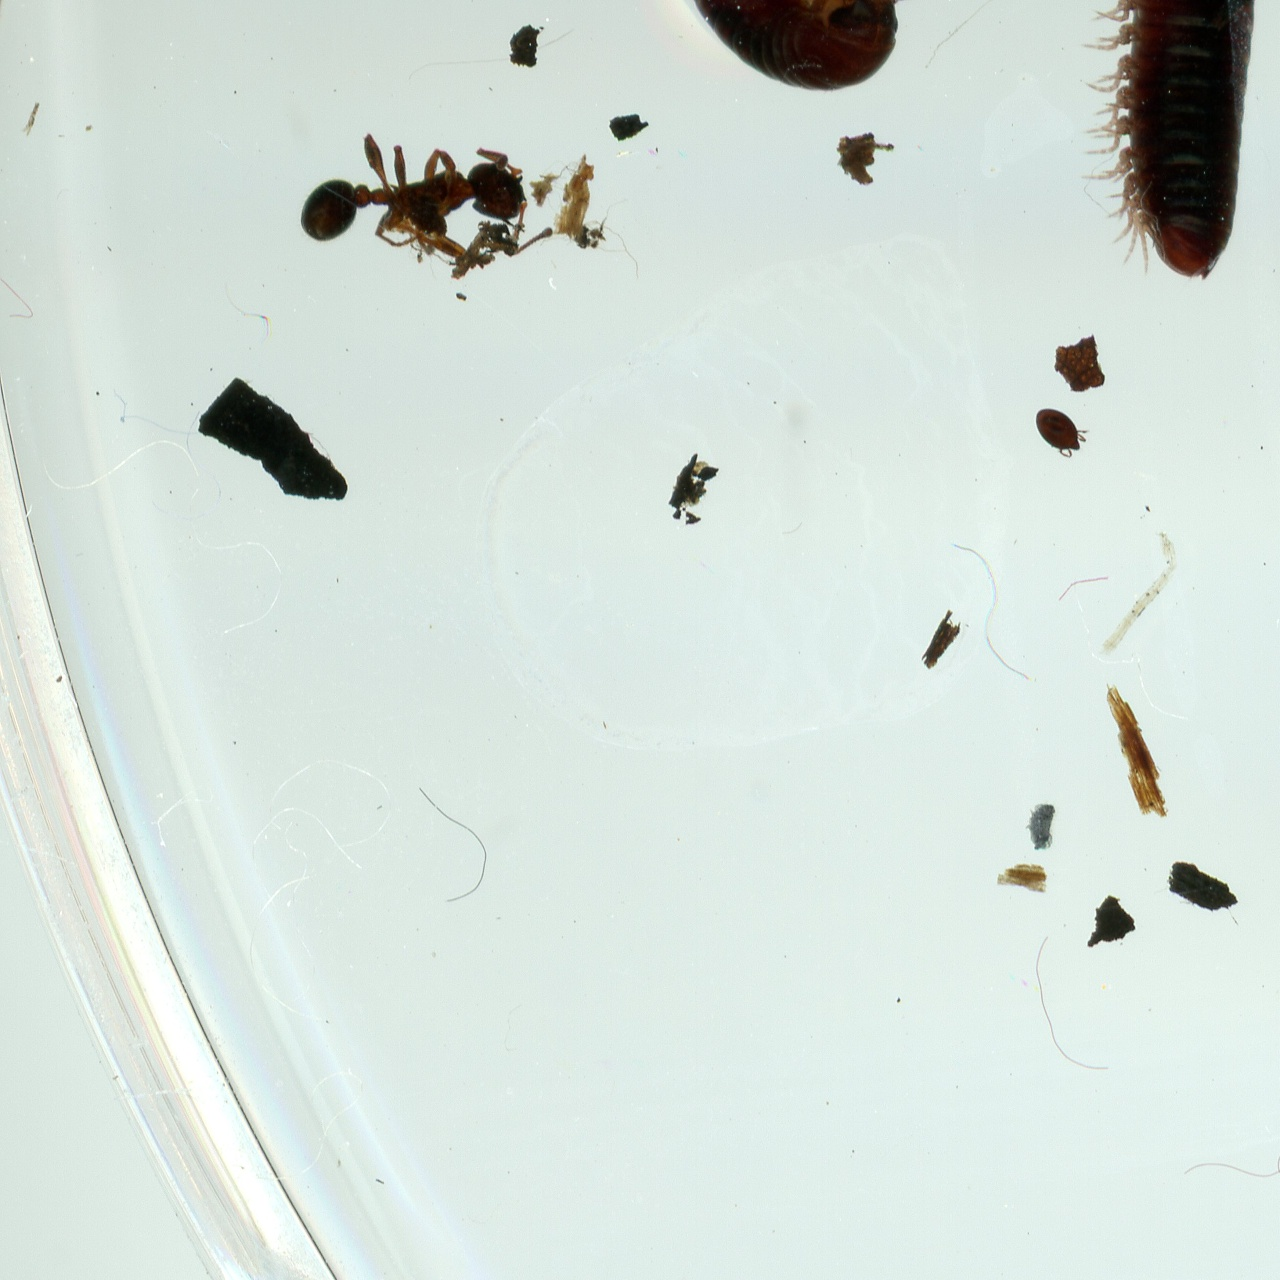arthropod: (651, 0, 1269, 286), (295, 130, 557, 264), (1022, 394, 1097, 466), (1023, 801, 1057, 851)
